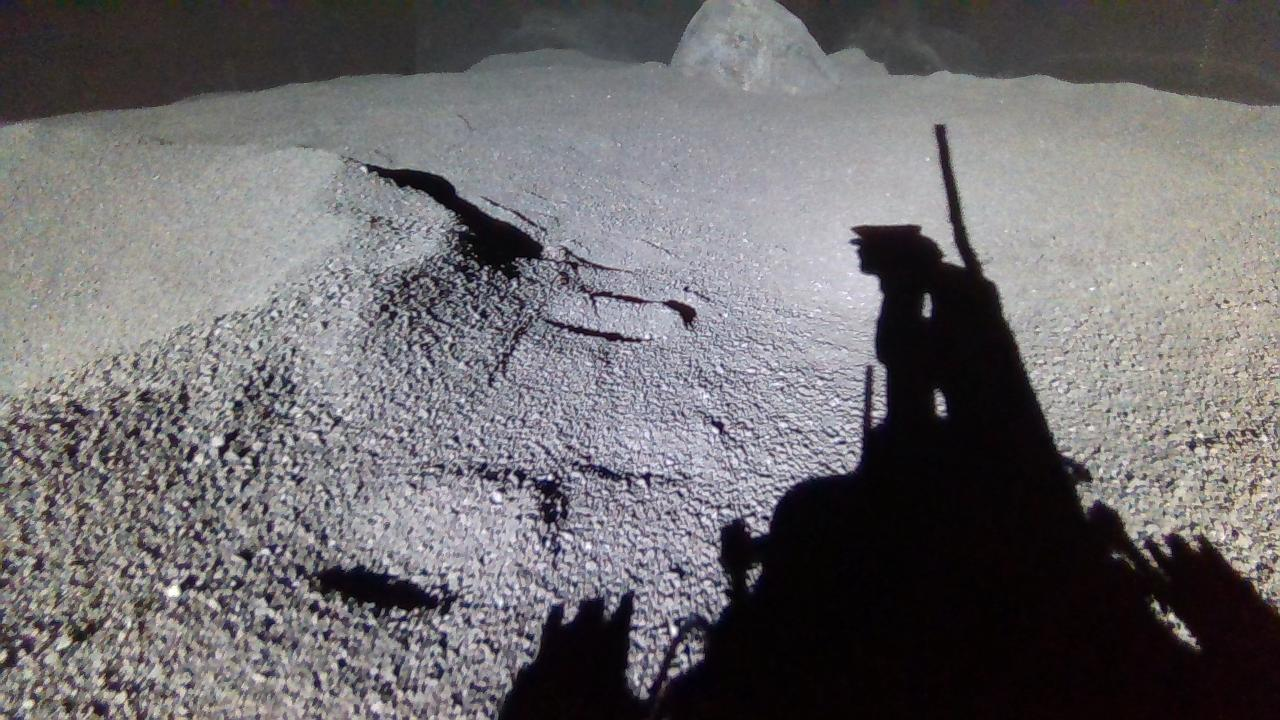rock: (672, 0, 839, 93)
